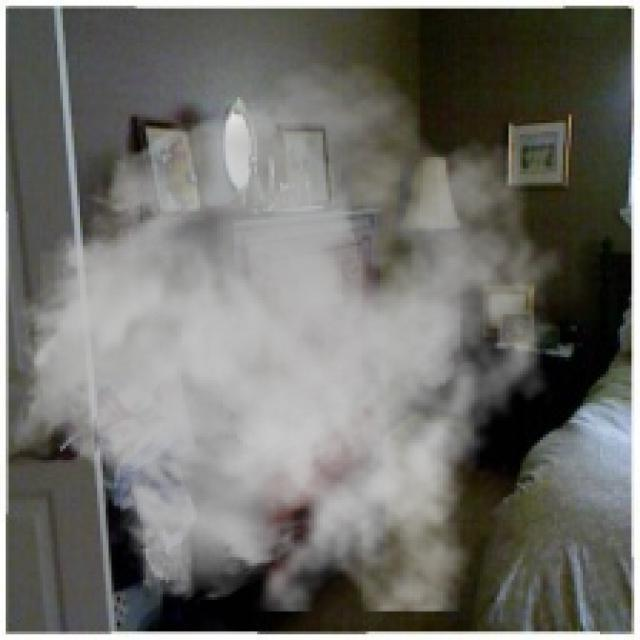Smoke: (6, 59, 566, 612)
